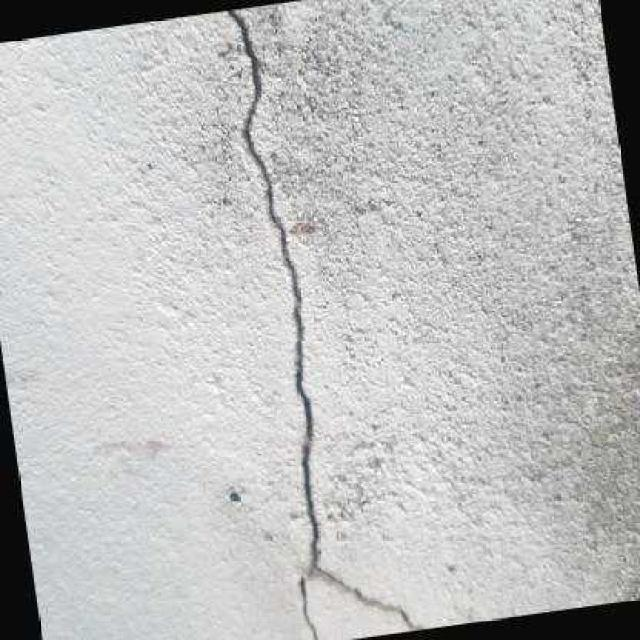D00: (225, 9, 423, 640)
